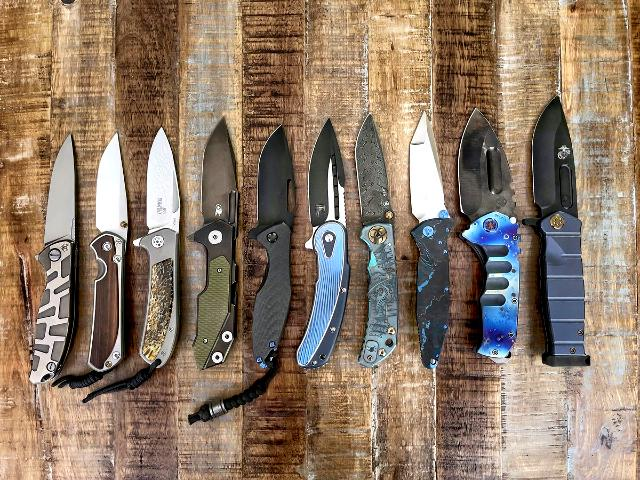pocket-knife: (522, 92, 600, 372), (456, 102, 522, 362), (293, 115, 352, 373), (187, 114, 245, 370), (401, 106, 455, 372), (242, 125, 298, 372), (131, 123, 185, 374), (29, 130, 80, 392), (352, 107, 400, 371), (86, 130, 132, 382)
